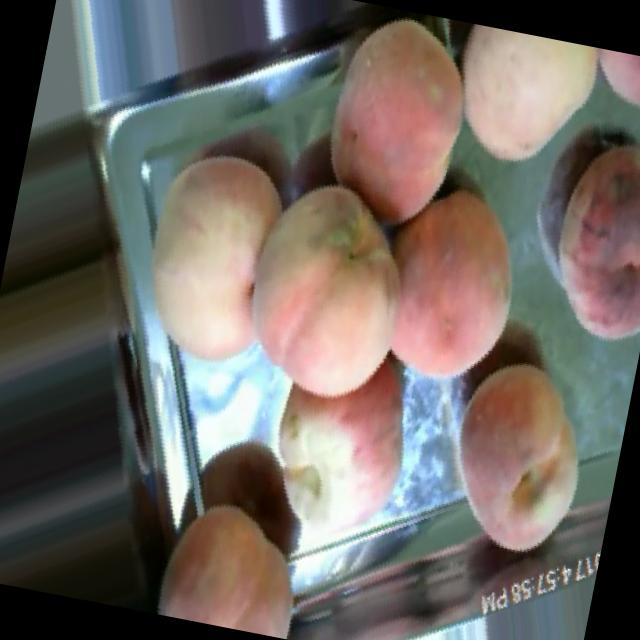Fruit: (209, 142, 448, 426), (272, 0, 508, 265), (98, 114, 316, 395), (415, 331, 631, 586), (230, 328, 445, 570), (356, 160, 554, 413), (416, 18, 627, 198), (509, 107, 640, 368), (145, 477, 334, 640), (570, 46, 640, 135)
